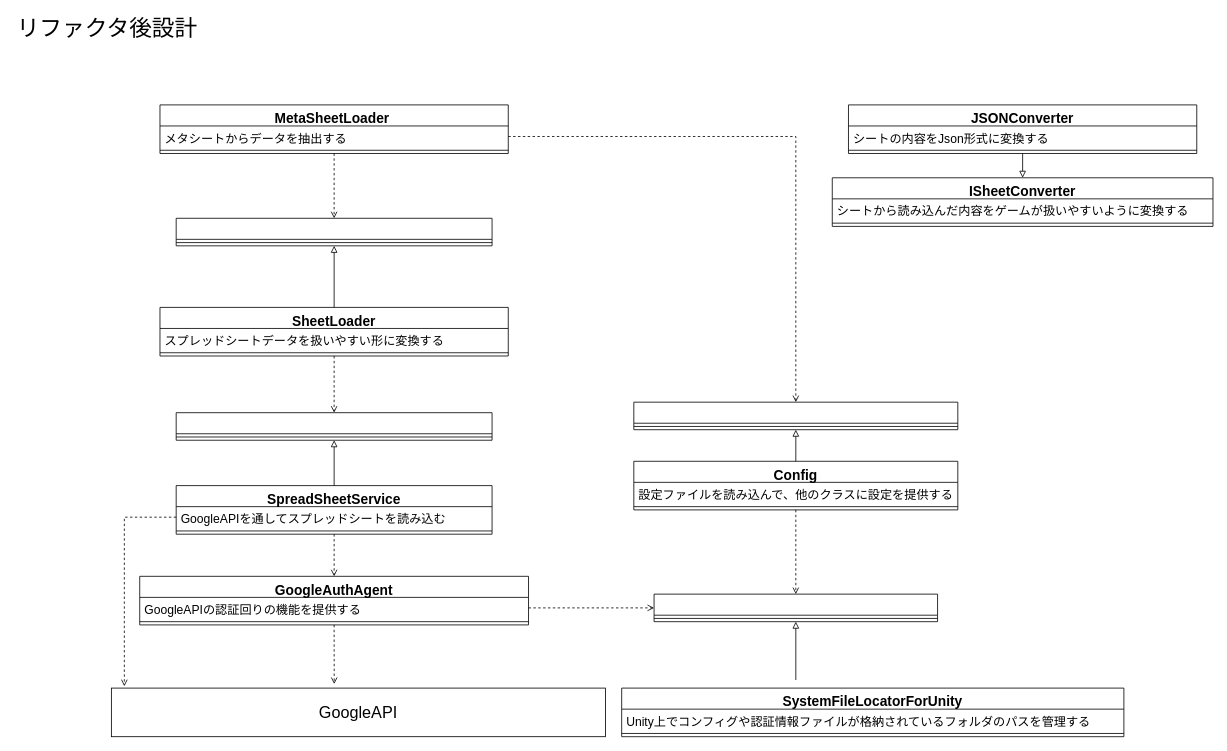
Some shapes in this 1227 by 751 pixel diagram are drawn without their labels. Here are the shapes that lost their labels. From the top down, the centre of each, then its label:
point 333,231: ISheetLoader
point 333,426: ISpreadSheetService
point 795,415: IConfig
point 795,607: ISystemFileLocator
